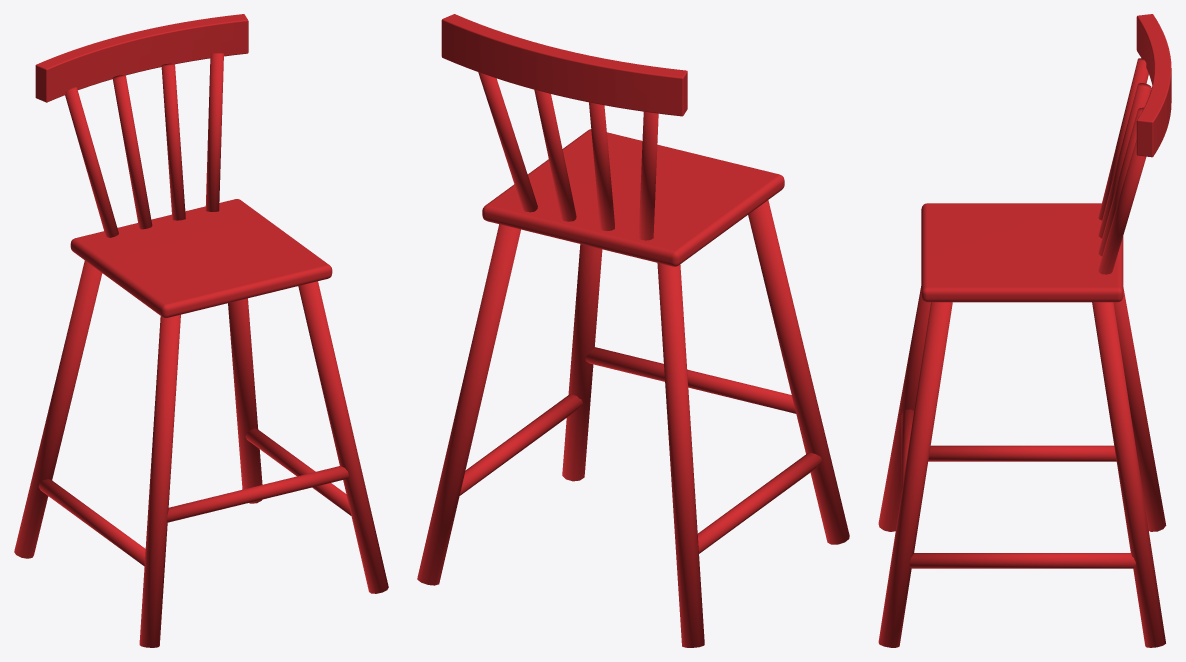
Rendered from junior_chair_red.glb.
3 renders of one model, left to right at view 1: azimuth 30°, elevation 25°; view 2: azimuth 150°, elevation 25°; view 3: azimuth 270°, elevation 25°, orthographic. The views are drawn at different scales.
Visible parts, largest first — view 1: JuniorChair_Seat, JuniorChair_TopRail, JuniorChair_Leg0, JuniorChair_Leg1, JuniorChair_Leg2, JuniorChair_Leg3, JuniorChair_Rung0, JuniorChair_Spindle3, JuniorChair_Spindle2, JuniorChair_Spindle1, JuniorChair_Spindle0, JuniorChair_Rung1 (+1 smaller); view 2: JuniorChair_Seat, JuniorChair_TopRail, JuniorChair_Leg2, JuniorChair_Leg3, JuniorChair_Leg0, JuniorChair_Leg1, JuniorChair_Rung0, JuniorChair_Rung1, JuniorChair_Rung2, JuniorChair_Spindle3, JuniorChair_Spindle2, JuniorChair_Spindle1 (+1 smaller); view 3: JuniorChair_Seat, JuniorChair_Leg1, JuniorChair_Leg3, JuniorChair_TopRail, JuniorChair_Leg2, JuniorChair_Rung2, JuniorChair_Leg0, JuniorChair_Rung1, JuniorChair_Spindle3, JuniorChair_Spindle1, JuniorChair_Spindle0, JuniorChair_Spindle2 (+1 smaller).
Part boxes in pixels (bbox=[...]): JuniorChair_Seat: bbox=[70, 199, 332, 317]; JuniorChair_TopRail: bbox=[35, 14, 248, 102]; JuniorChair_Leg0: bbox=[139, 314, 180, 647]; JuniorChair_Leg1: bbox=[298, 281, 388, 593]; JuniorChair_Leg2: bbox=[14, 260, 102, 558]; JuniorChair_Leg3: bbox=[228, 298, 262, 503]; JuniorChair_Rung0: bbox=[167, 466, 348, 522]; JuniorChair_Spindle3: bbox=[205, 53, 223, 211]; JuniorChair_Spindle2: bbox=[161, 63, 185, 220]; JuniorChair_Spindle1: bbox=[112, 75, 152, 229]; JuniorChair_Spindle0: bbox=[65, 86, 118, 237]; JuniorChair_Rung1: bbox=[38, 479, 145, 566]; JuniorChair_Seat: bbox=[482, 129, 784, 266]; JuniorChair_TopRail: bbox=[441, 14, 687, 116]; JuniorChair_Leg2: bbox=[657, 263, 704, 647]; JuniorChair_Leg3: bbox=[417, 224, 520, 585]; JuniorChair_Leg0: bbox=[748, 200, 849, 544]; JuniorChair_Leg1: bbox=[562, 244, 602, 481]; JuniorChair_Rung0: bbox=[585, 347, 796, 413]; JuniorChair_Rung1: bbox=[697, 452, 821, 553]; JuniorChair_Rung2: bbox=[459, 394, 583, 495]; JuniorChair_Spindle3: bbox=[478, 72, 537, 212]; JuniorChair_Spindle2: bbox=[534, 89, 576, 221]; JuniorChair_Spindle1: bbox=[589, 102, 614, 230]; JuniorChair_Seat: bbox=[921, 203, 1123, 302]; JuniorChair_Leg1: bbox=[878, 302, 952, 647]; JuniorChair_Leg3: bbox=[1092, 302, 1165, 647]; JuniorChair_TopRail: bbox=[1136, 14, 1171, 157]; JuniorChair_Leg2: bbox=[1113, 287, 1166, 531]; JuniorChair_Rung2: bbox=[909, 553, 1135, 568]; JuniorChair_Leg0: bbox=[878, 286, 930, 531]; JuniorChair_Rung1: bbox=[928, 445, 1116, 461]; JuniorChair_Spindle3: bbox=[1098, 140, 1146, 274]; JuniorChair_Spindle1: bbox=[1098, 83, 1151, 238]; JuniorChair_Spindle0: bbox=[1098, 58, 1148, 220]; JuniorChair_Spindle2: bbox=[1098, 107, 1143, 256].
Size of the model in its own units: 0.9318 by 1.77 by 0.9037.
